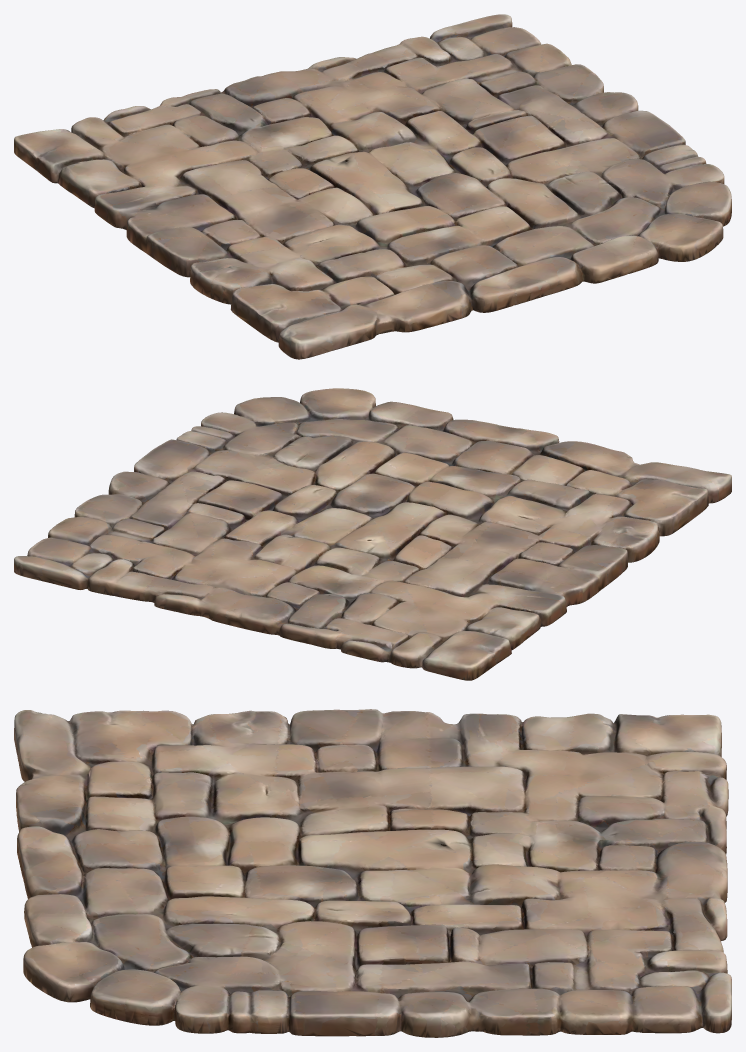
File: flooring2.glb
3 views of the same model, one above another, from view 1: azimuth 30°, elevation 25°; view 2: azimuth 150°, elevation 25°; view 3: azimuth 270°, elevation 25° (orthographic). The views are drawn at different scales.
Bounding box in the file's own units: 2 × 0.0742 × 1.97.
Materials: 1 (1 with a texture image).
